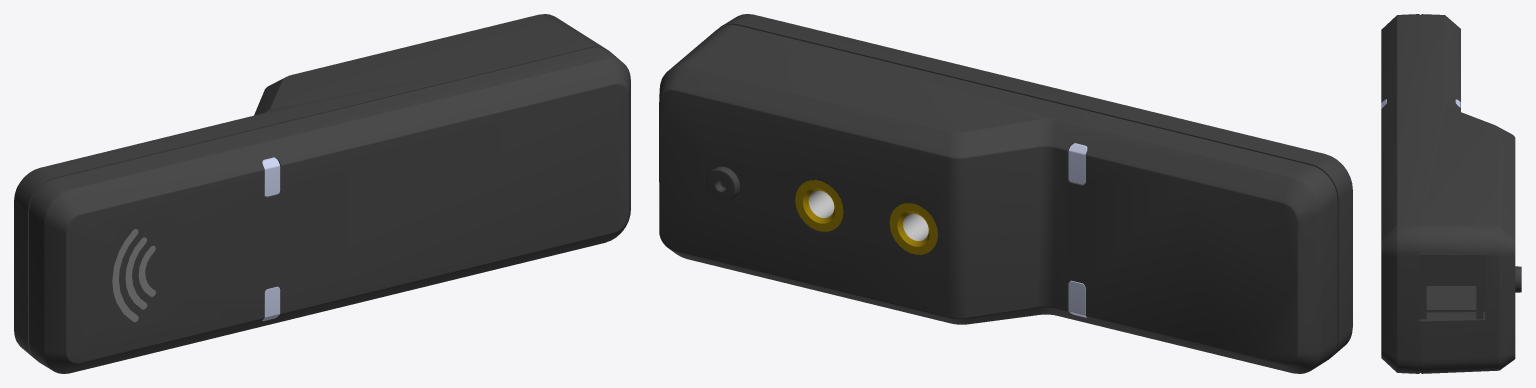
File: v5-robot-radio.glb
3 views of the same model, side by side, from view 1: azimuth 30°, elevation 25°; view 2: azimuth 150°, elevation 25°; view 3: azimuth 270°, elevation 25° (orthographic). The views are drawn at different scales.
Visible parts, largest first — view 1: 276-4831-102 Rev3, 276-4831-101 Rev3 - Overmold, 276-4831-103 Rev5; view 2: 276-4831-101 Rev3 - Overmold, 276-4831-102 Rev3, 276-4831-008 Rev8, 276-4831-008 Rev8.001, 276-4831-104 Rev5; view 3: 276-4831-101 Rev3 - Overmold, 276-4831-102 Rev3, 276-4810-907 Rev1.
Part boxes in pixels (x1,y1,x2,y2): 276-4831-102 Rev3: (29,47,630,373); 276-4831-101 Rev3 - Overmold: (14,14,605,358); 276-4831-103 Rev5: (262,157,280,320); 276-4831-101 Rev3 - Overmold: (659,24,1337,373); 276-4831-102 Rev3: (719,14,1352,359); 276-4831-008 Rev8: (889,203,937,254); 276-4831-008 Rev8.001: (795,180,843,231); 276-4831-104 Rev5: (1068,143,1087,317); 276-4831-101 Rev3 - Overmold: (1419,14,1521,373); 276-4831-102 Rev3: (1381,14,1419,373); 276-4810-907 Rev1: (1419,254,1484,319).
Bounding box in the file's own units: 0.0845 × 0.0255 × 0.022.
